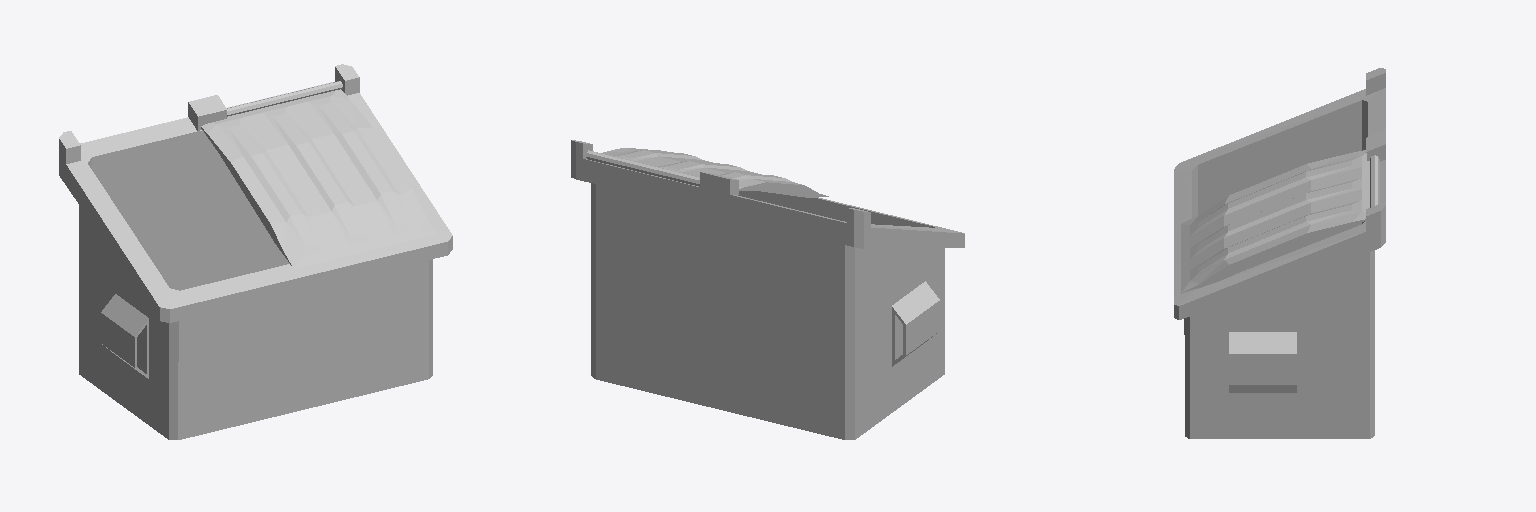
The model's file is crateTemp.obj.
The picture shows the model from 3 angles: view 1: azimuth 30°, elevation 25°; view 2: azimuth 150°, elevation 25°; view 3: azimuth 270°, elevation 25°; orthographic projection.
Size of the model in its own units: 2 by 1.55 by 1.25.